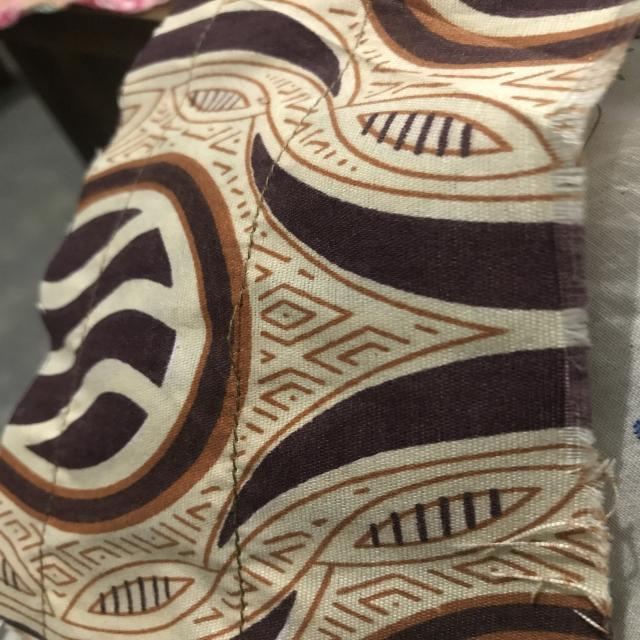good: (222, 459, 252, 592)
skip: (210, 293, 266, 400)
